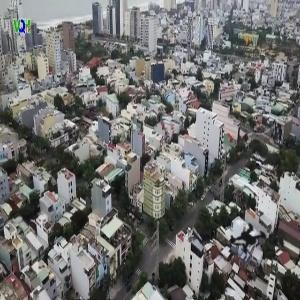drone: (208, 196, 290, 278)
